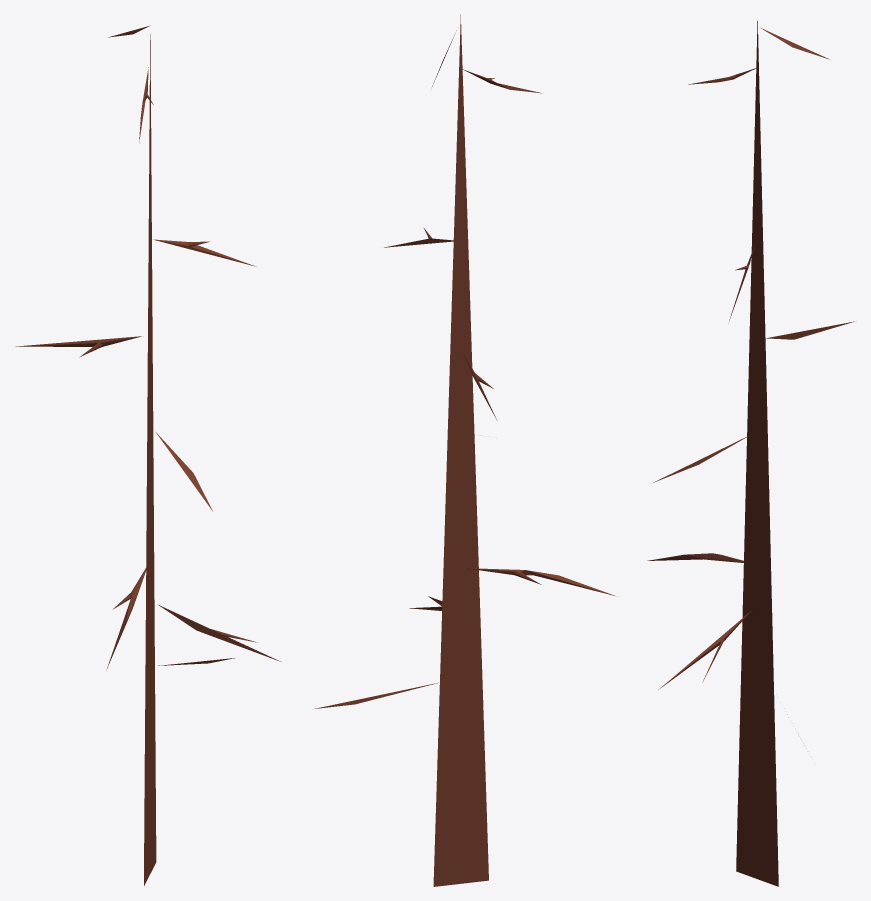
The model's file is pine_dead_type_3_LOD2.fbx.
The picture shows the model from 3 angles, left to right: view 1: azimuth 30°, elevation 25°; view 2: azimuth 150°, elevation 25°; view 3: azimuth 270°, elevation 25°; orthographic projection.
Parts seen in each view (by area): view 1: pine_trunk.008; view 2: pine_trunk.008; view 3: pine_trunk.008.
Boxes of the visible parts, x1=… form: pine_trunk.008: x1=15, y1=25, x2=280, y2=885; pine_trunk.008: x1=314, y1=14, x2=614, y2=886; pine_trunk.008: x1=647, y1=21, x2=854, y2=886.
Size of the model in its own units: 487 by 1849 by 408.
